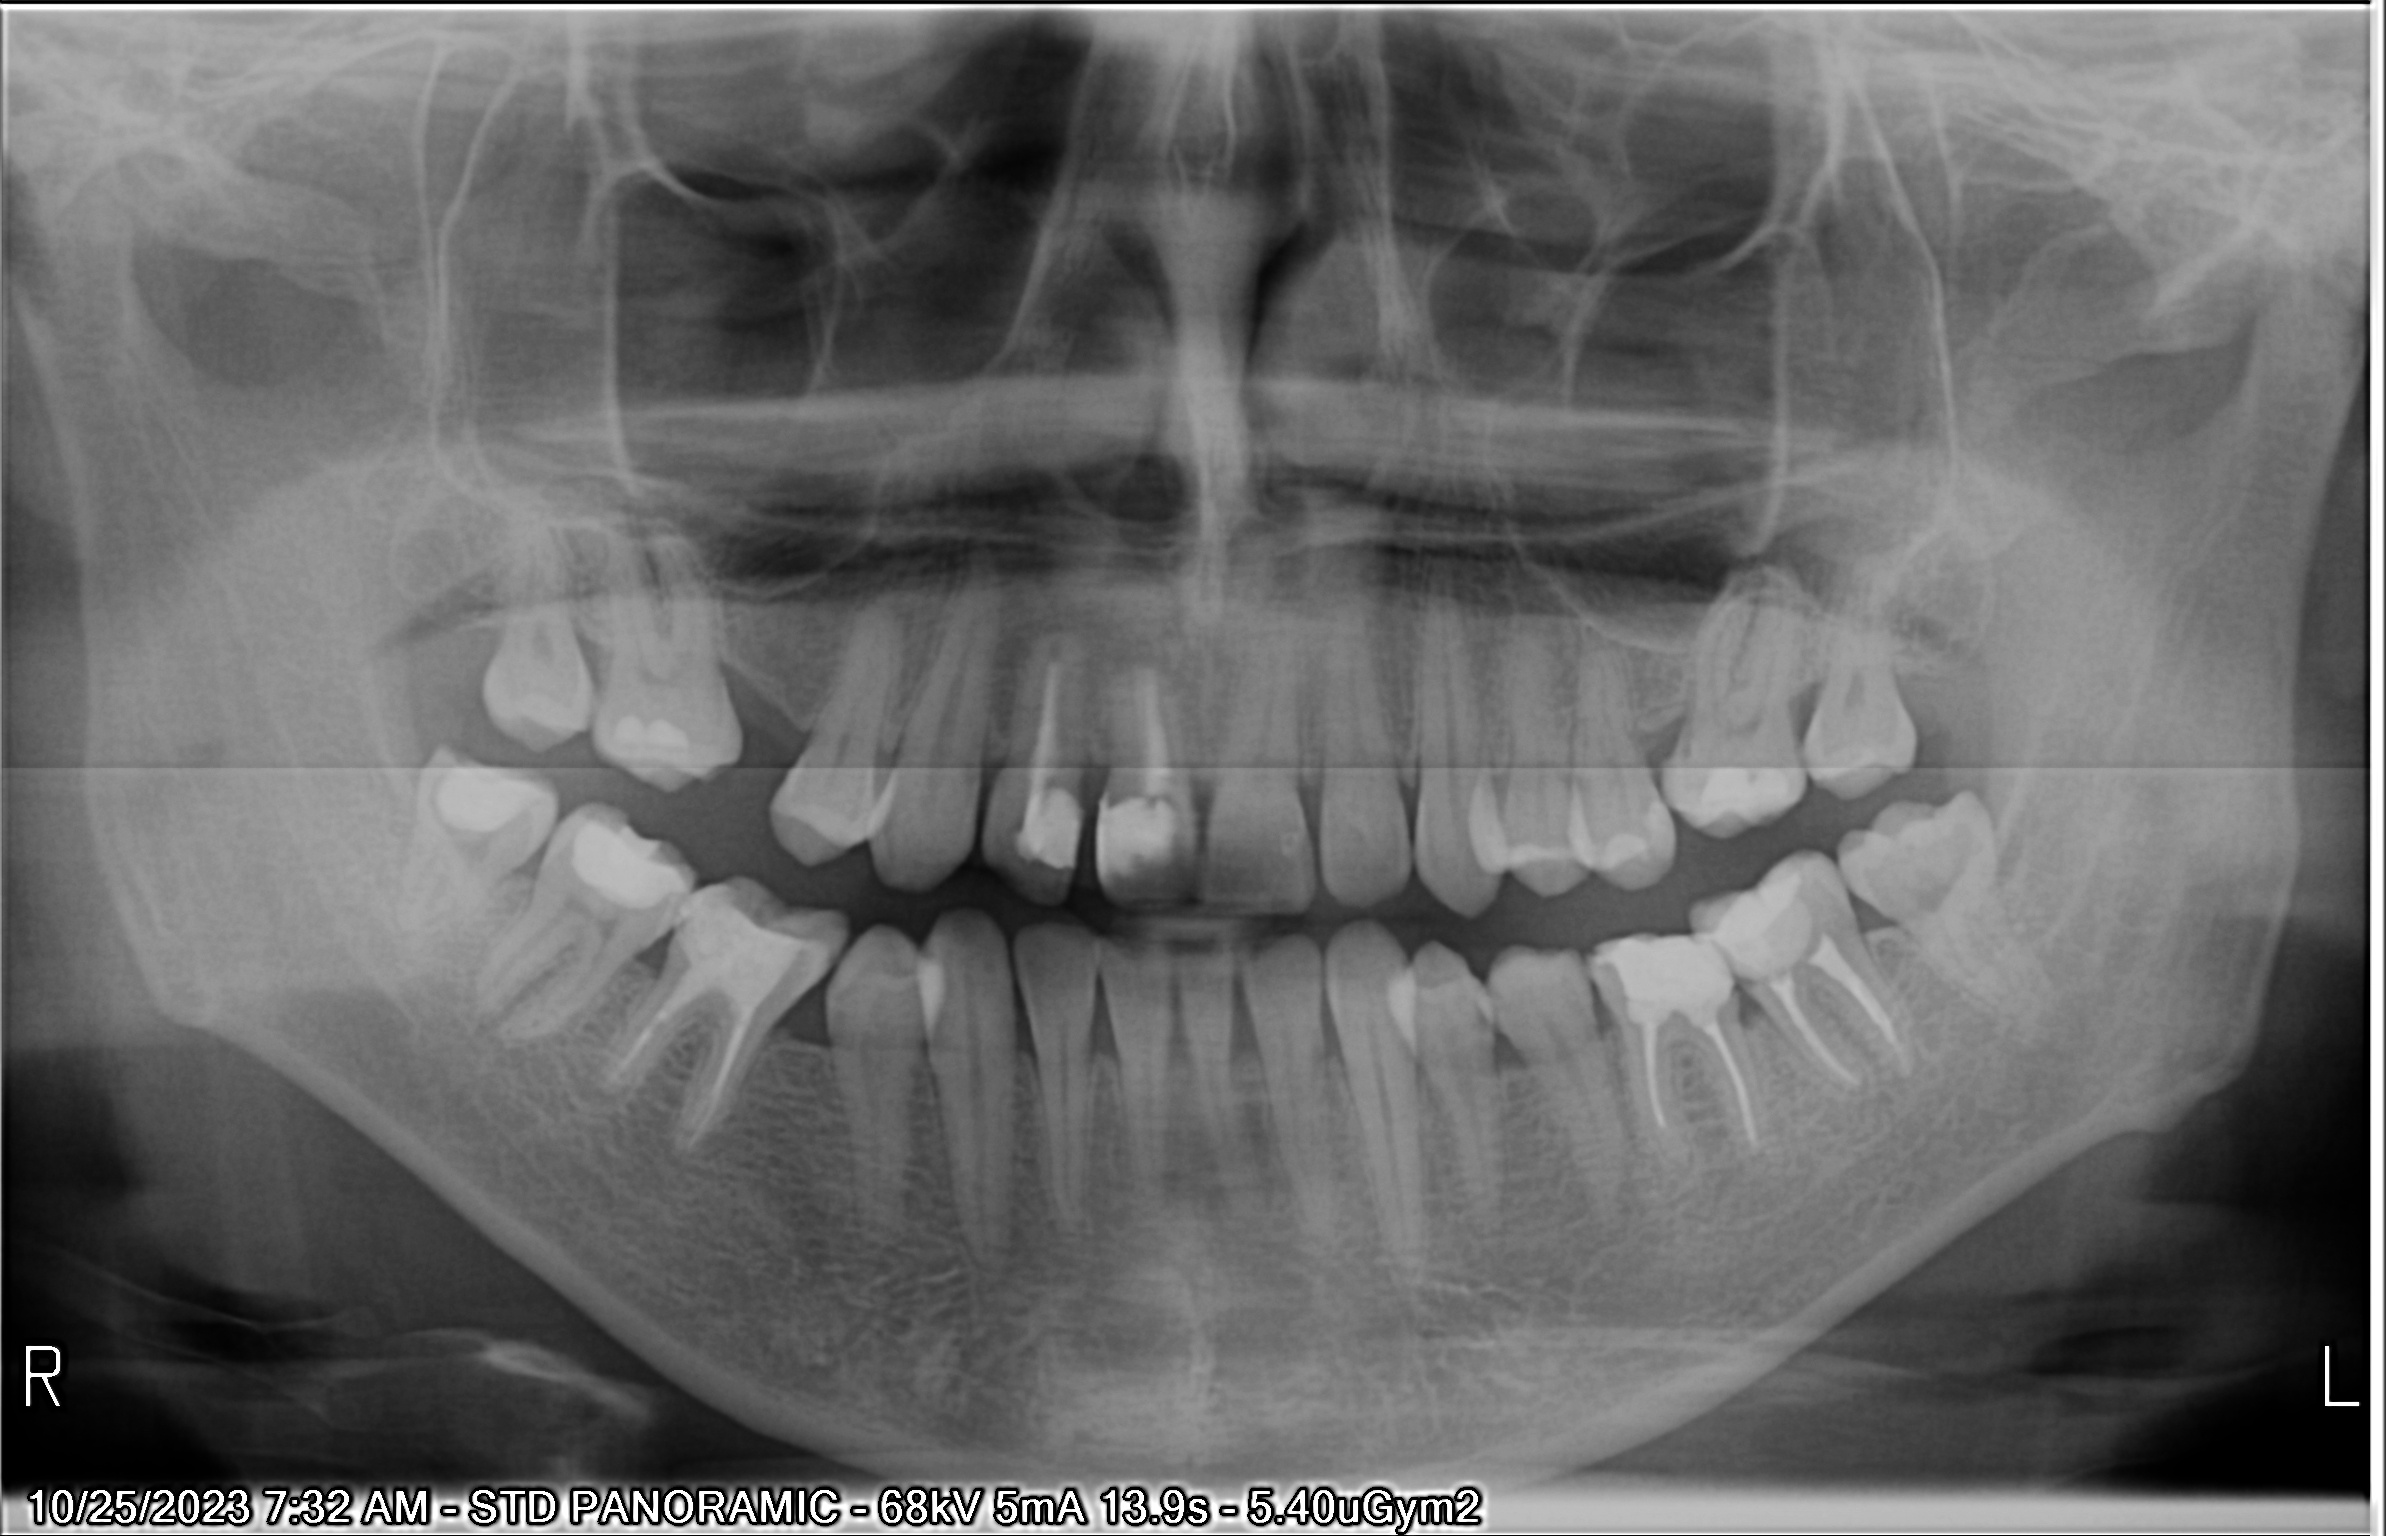API: (574, 1059, 650, 1124)
BON: (1697, 978, 1776, 1051)
CAR: (1718, 955, 1769, 1009)
END: (1758, 946, 1941, 1091), (598, 985, 744, 1164), (1616, 1021, 1774, 1178), (1118, 649, 1184, 790), (1024, 630, 1075, 772)
OBT: (1579, 903, 1739, 1045), (676, 877, 840, 1011), (560, 788, 696, 918), (1710, 856, 1826, 976), (430, 741, 546, 847), (1094, 783, 1186, 889), (600, 694, 708, 781), (1683, 757, 1807, 826), (1026, 781, 1083, 877), (1635, 786, 1690, 859), (1596, 807, 1647, 877)
